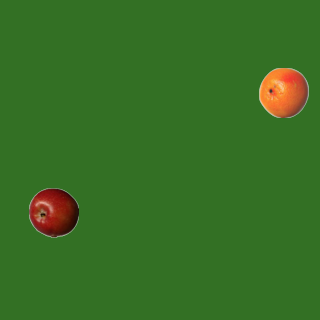Apple Braeburn: (28, 187, 78, 237)
Grapefruit Pink: (258, 67, 308, 117)
